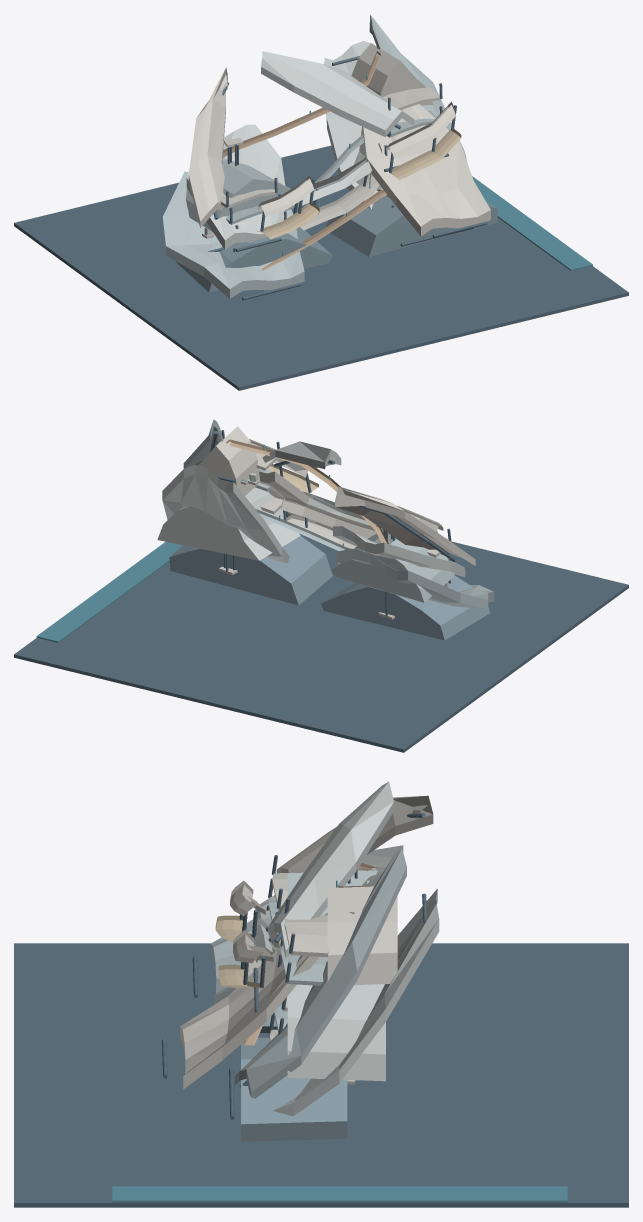
Rendered from J7R4_REAL_BLENDER_EDIT.glb.
3 renders of one model, top to bottom at view 1: azimuth 30°, elevation 25°; view 2: azimuth 150°, elevation 25°; view 3: azimuth 270°, elevation 25°, orthographic. The views are drawn at different scales.
Parts seen in each view (by area): view 1: W0_NONCANONICAL_10KM_REFERENCE, EAST_LONGHORIZON_PUBLIC_CITY, WEST_COAST_FOLDED_INHABITED_GROUND, SKY_HORIZON_BROKEN_CROWN, WEST_FREE_EDGE_WINDWARD, EAST_RESIDENTIAL_CLIFF_LOWER, WEST_UPPER_SKY_CAMPUS, WEST_RESIDENTIAL_CLIFF_LOWER, W0_EAST_WATER_ABSTRACT, WEST_CIVIC_CLIFF_UPPER, EAST_SERRATED_CREST_CITY, EAST_HIGH_TECTONIC_CITY (+10 smaller); view 2: W0_NONCANONICAL_10KM_REFERENCE, EAST_RESIDENTIAL_CLIFF_LOWER, WEST_RESIDENTIAL_CLIFF_LOWER, EAST_HIGH_TECTONIC_CITY, EAST_CIVIC_ESCARPMENT_MIDDLE, WEST_CIVIC_CLIFF_UPPER, W0_EAST_WATER_ABSTRACT, WEST_FREE_EDGE_WINDWARD, WEST_COAST_FOLDED_INHABITED_GROUND, EAST_SERRATED_CREST_CITY, WEST_UPPER_SKY_CAMPUS, SKY_HORIZON_BROKEN_CROWN (+8 smaller); view 3: W0_NONCANONICAL_10KM_REFERENCE, EAST_SPIRE_FOLD, W0_EAST_WATER_ABSTRACT, EAST_LONGHORIZON_PUBLIC_CITY, SKY_HORIZON_BROKEN_CROWN, EAST_RESIDENTIAL_CLIFF_LOWER, EAST_CIVIC_ESCARPMENT_MIDDLE, EAST_HIGH_TECTONIC_CITY, EAST_SERRATED_CREST_CITY, WEST_FREE_EDGE_WINDWARD, EAST_EXPOSED_RESIDENTIAL_CANYON_FLOOR_5, WEST_COAST_FOLDED_INHABITED_GROUND (+6 smaller).
Boxes of the visible parts, <box> form: W0_NONCANONICAL_10KM_REFERENCE: <box>14,145,628,390</box>; EAST_LONGHORIZON_PUBLIC_CITY: <box>362,104,490,236</box>; WEST_COAST_FOLDED_INHABITED_GROUND: <box>162,171,304,298</box>; SKY_HORIZON_BROKEN_CROWN: <box>261,51,414,137</box>; WEST_FREE_EDGE_WINDWARD: <box>188,67,227,227</box>; EAST_RESIDENTIAL_CLIFF_LOWER: <box>326,196,498,256</box>; WEST_UPPER_SKY_CAMPUS: <box>186,124,285,249</box>; WEST_RESIDENTIAL_CLIFF_LOWER: <box>176,227,332,292</box>; W0_EAST_WATER_ABSTRACT: <box>472,176,592,270</box>; WEST_CIVIC_CLIFF_UPPER: <box>186,158,299,231</box>; EAST_SERRATED_CREST_CITY: <box>351,43,433,105</box>; EAST_HIGH_TECTONIC_CITY: <box>324,41,377,209</box>; W0_NONCANONICAL_10KM_REFERENCE: <box>14,516,628,752</box>; EAST_RESIDENTIAL_CLIFF_LOWER: <box>169,536,332,605</box>; WEST_RESIDENTIAL_CLIFF_LOWER: <box>321,576,490,640</box>; EAST_HIGH_TECTONIC_CITY: <box>162,464,291,563</box>; EAST_CIVIC_ESCARPMENT_MIDDLE: <box>157,487,300,560</box>; WEST_CIVIC_CLIFF_UPPER: <box>330,530,454,602</box>; W0_EAST_WATER_ABSTRACT: <box>36,542,182,642</box>; WEST_FREE_EDGE_WINDWARD: <box>335,486,475,565</box>; WEST_COAST_FOLDED_INHABITED_GROUND: <box>336,548,494,609</box>; EAST_SERRATED_CREST_CITY: <box>198,426,260,495</box>; WEST_UPPER_SKY_CAMPUS: <box>333,526,465,577</box>; SKY_HORIZON_BROKEN_CROWN: <box>262,441,341,470</box>; W0_NONCANONICAL_10KM_REFERENCE: <box>14,943,628,1207</box>; EAST_SPIRE_FOLD: <box>234,848,406,1098</box>; W0_EAST_WATER_ABSTRACT: <box>112,1186,567,1202</box>; EAST_LONGHORIZON_PUBLIC_CITY: <box>180,913,327,1089</box>; SKY_HORIZON_BROKEN_CROWN: <box>269,781,393,957</box>; EAST_RESIDENTIAL_CLIFF_LOWER: <box>241,1037,347,1141</box>; EAST_CIVIC_ESCARPMENT_MIDDLE: <box>287,984,385,1081</box>; EAST_HIGH_TECTONIC_CITY: <box>273,888,439,1116</box>; EAST_SERRATED_CREST_CITY: <box>327,886,397,985</box>; WEST_FREE_EDGE_WINDWARD: <box>276,795,433,873</box>; EAST_EXPOSED_RESIDENTIAL_CANYON_FLOOR_5: <box>284,915,328,957</box>; WEST_COAST_FOLDED_INHABITED_GROUND: <box>210,919,253,1004</box>.
Size of the model in its own units: 10000 by 5055 by 10000.
